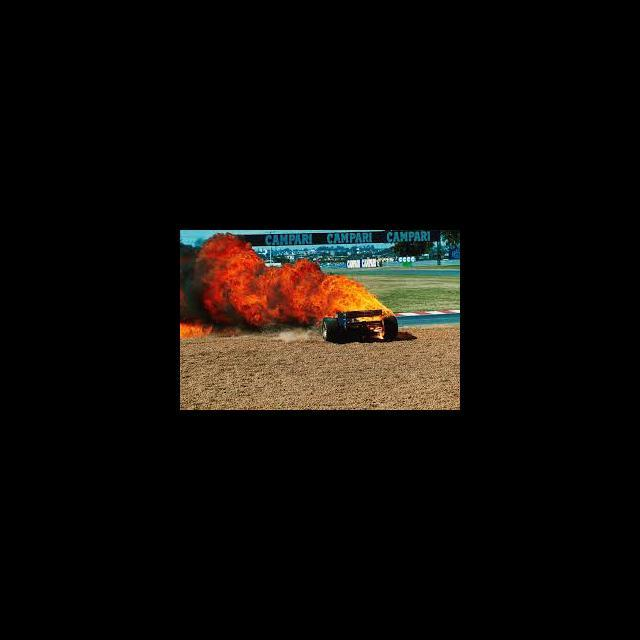Fire: (198, 232, 399, 327), (180, 322, 214, 340), (372, 328, 384, 340)
Smoke: (180, 244, 198, 320)
